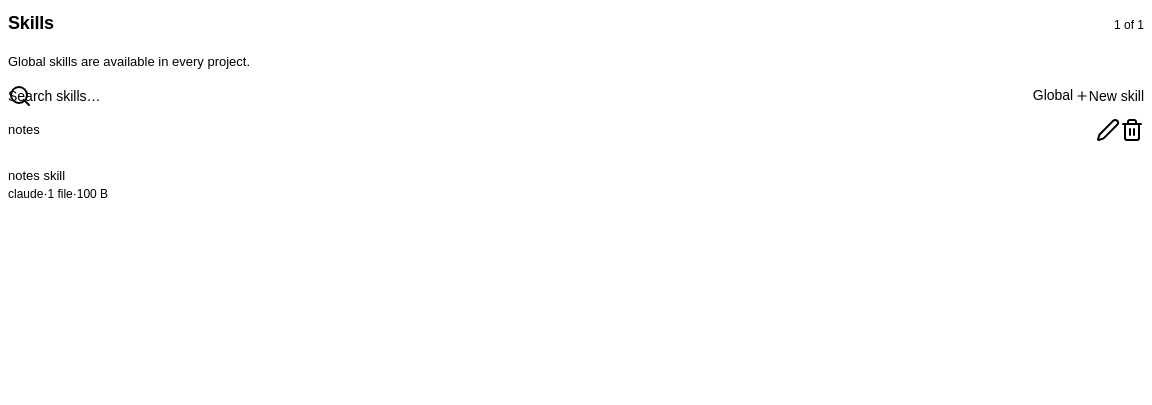
Test: SkillsSettingsTab › lists global skills first and a project on request
This screenshot has width=1152, height=405.
Check: the heading "notes" is shown, box [8,120,40,140]
Select "gomail" in the dropdown named "Skills location" at point(1054, 95), box [1033,85,1075,105]
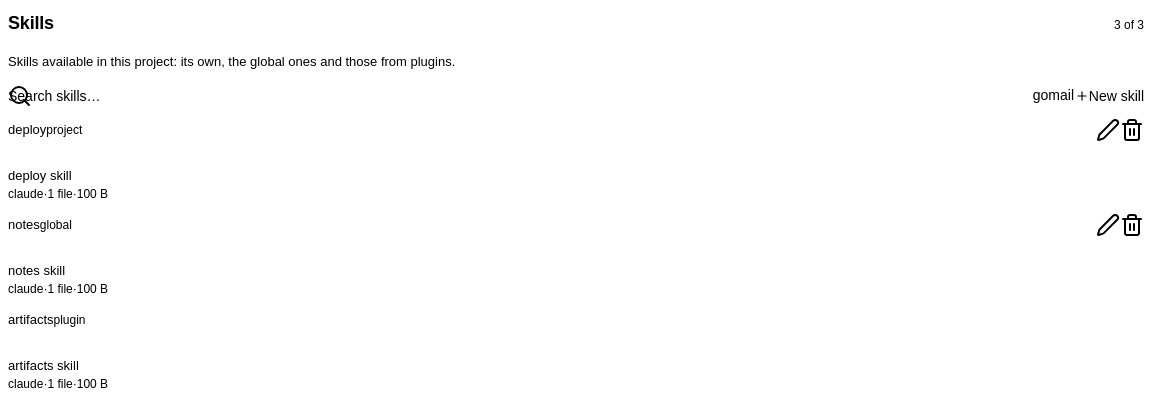
Check: the heading "deploy" is shown, box [8,120,46,140]
Check: the text "global" is shown, box [40,217,72,233]
Check: the text "plugin" is shown, box [54,312,86,328]
